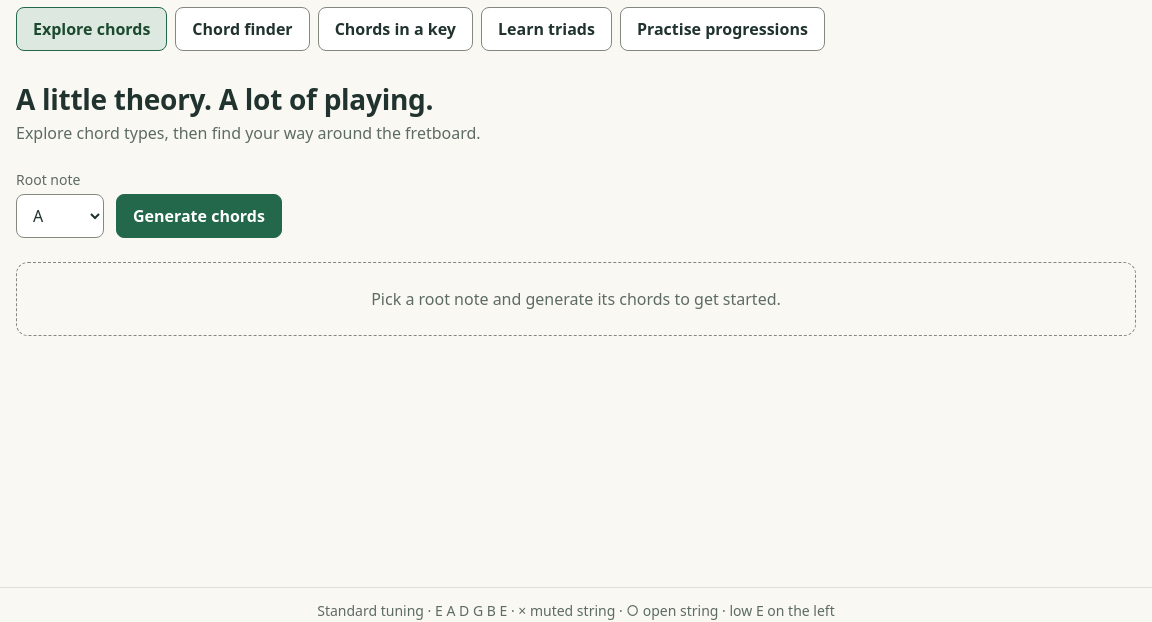
Test: chords in a key › keeps the chosen chord when the string set changes, and the string set when the chord changes
Click the tab "Chords in a key": (395, 29) [318,7,473,51]
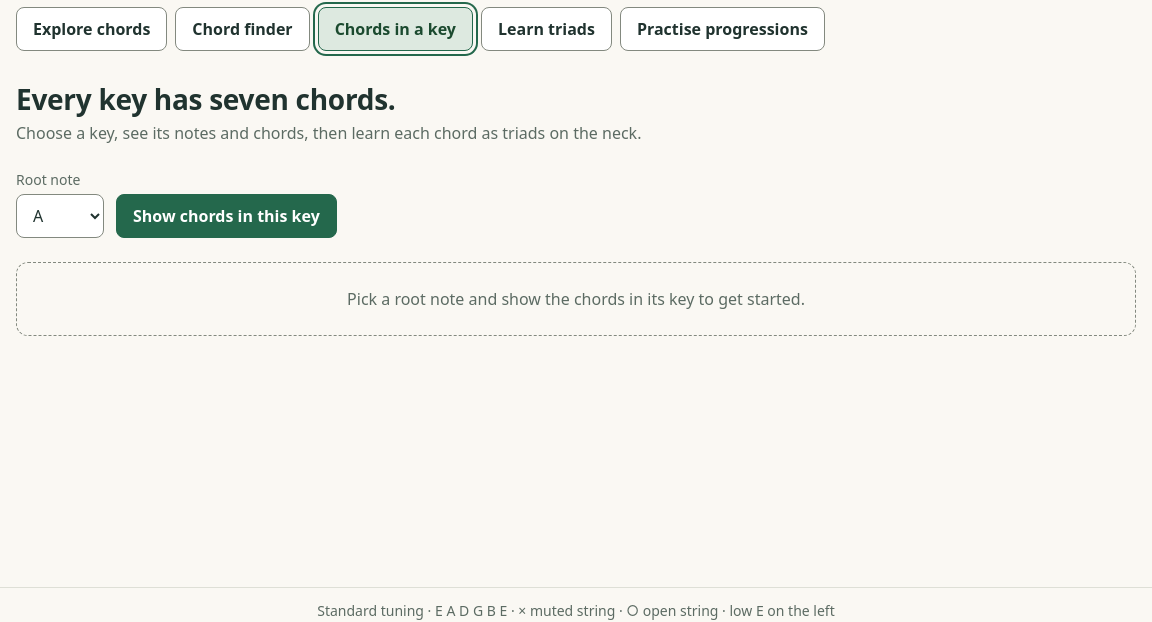
Select "C" in the dropdown labelled "Root note": (60, 216) [16,194,104,238]
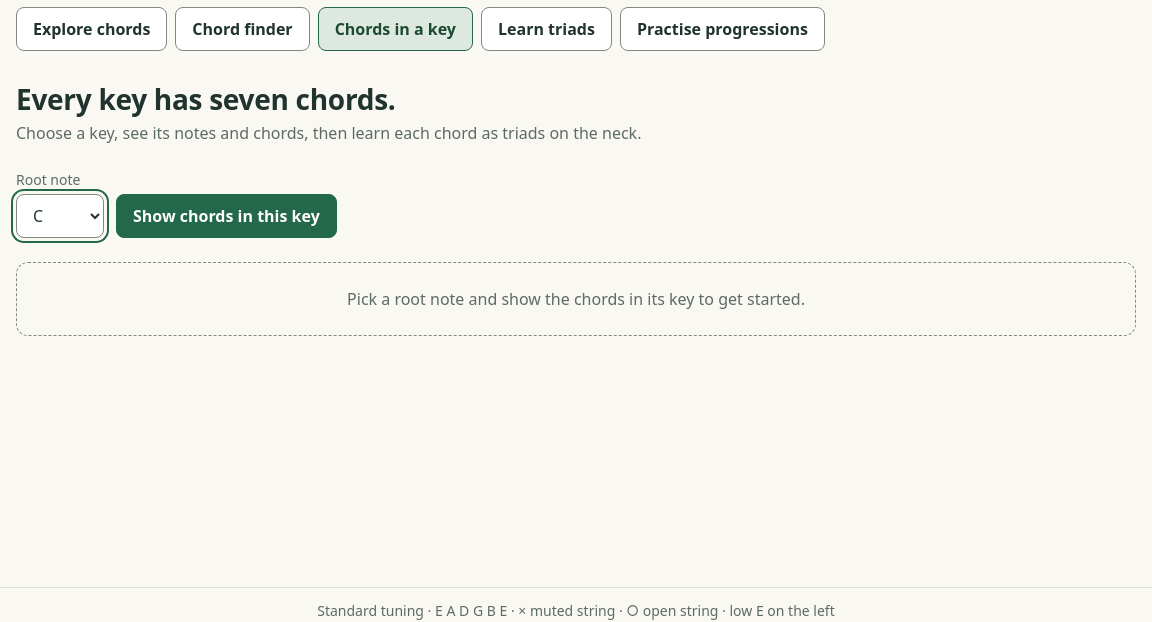
Click the button "Show chords in this key": (226, 216) [116,194,337,238]
(page scrolled)
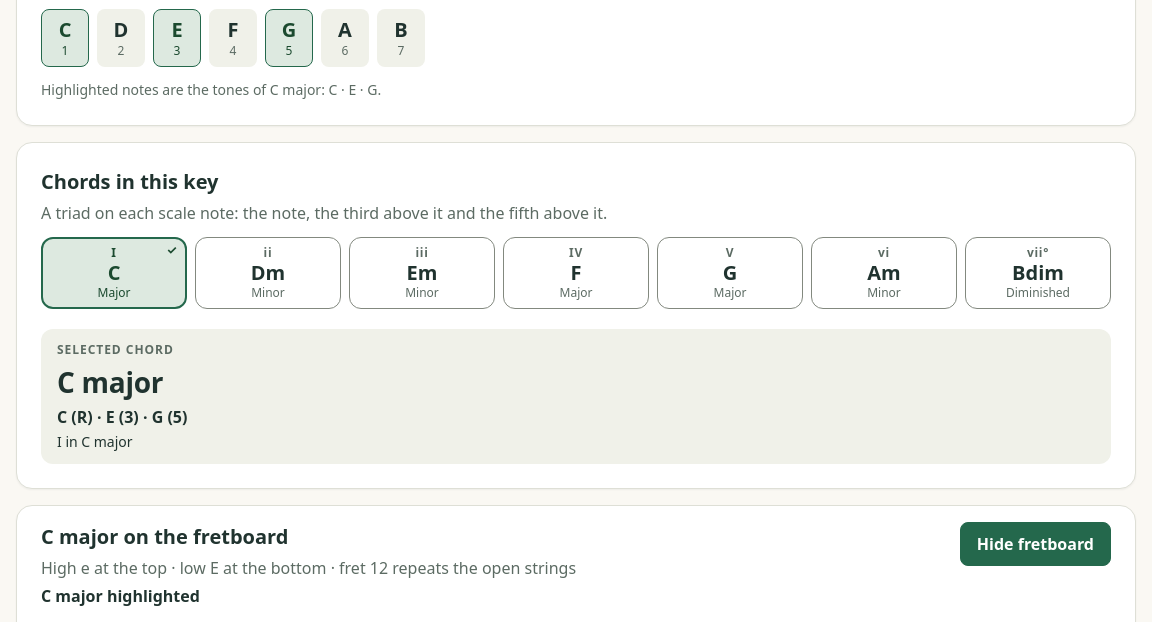
Click the button with aria-label "Dm, ii": (268, 273) [195,237,341,310]
(page scrolled)
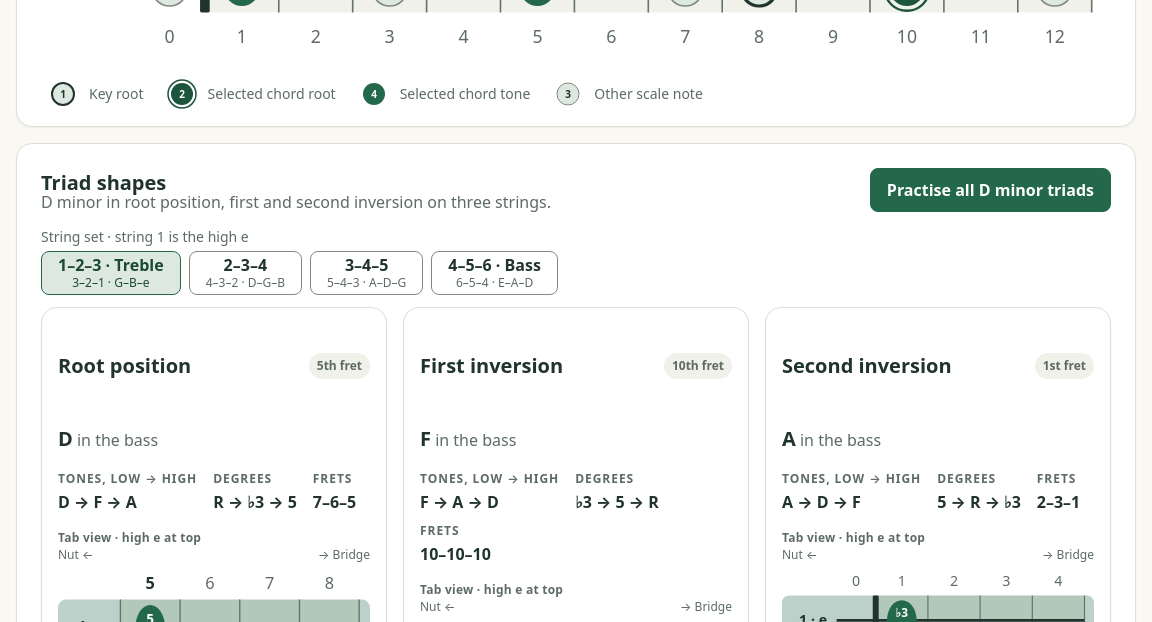
Click the button "2–3–4 4–3–2 · D–G–B": (245, 273) [189,251,302,296]
(page scrolled)
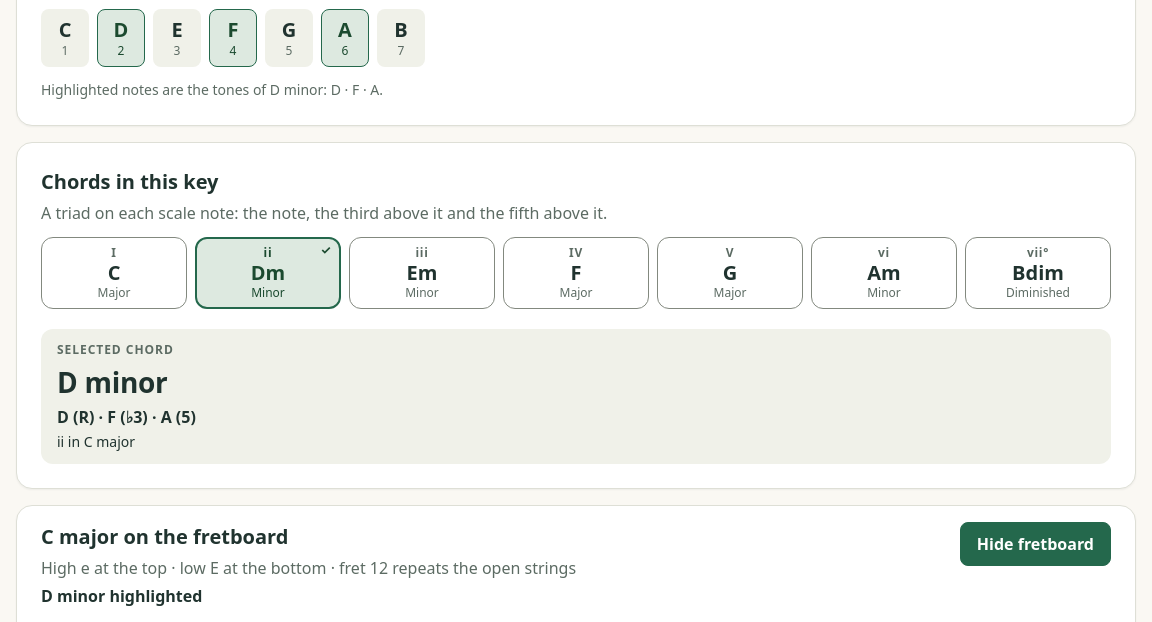
expect the text with test id "key-chord-name" reads "D minor": met, box [57,364,168,402]
Click the button with aria-label "G, V": (730, 273) [657,237,803,310]
(page scrolled)
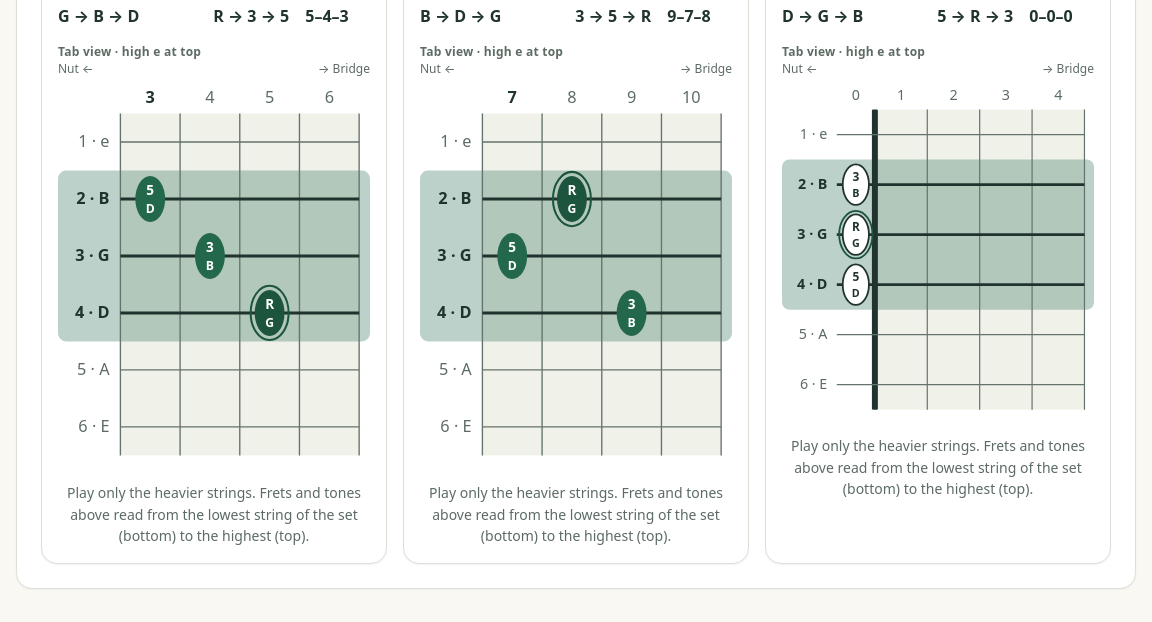
expect the picture named "G major, root position on strings 4, 3, 2" is shown: met, box [58,81,370,466]
